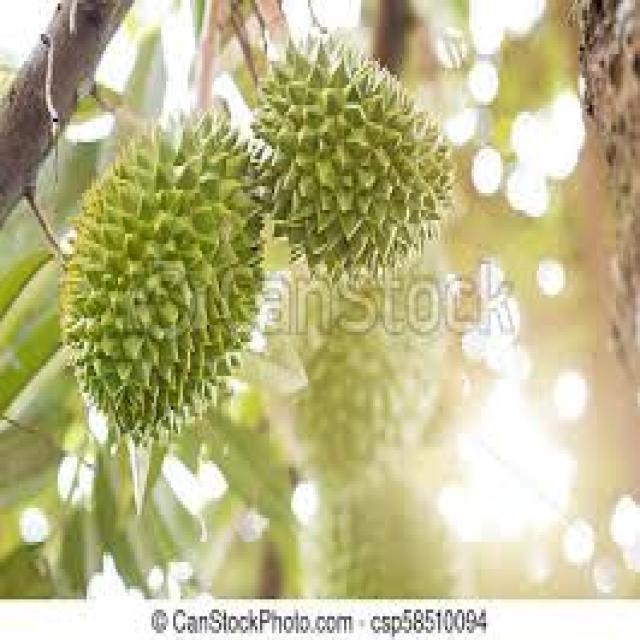immature: (60, 106, 268, 453), (252, 28, 456, 280)
